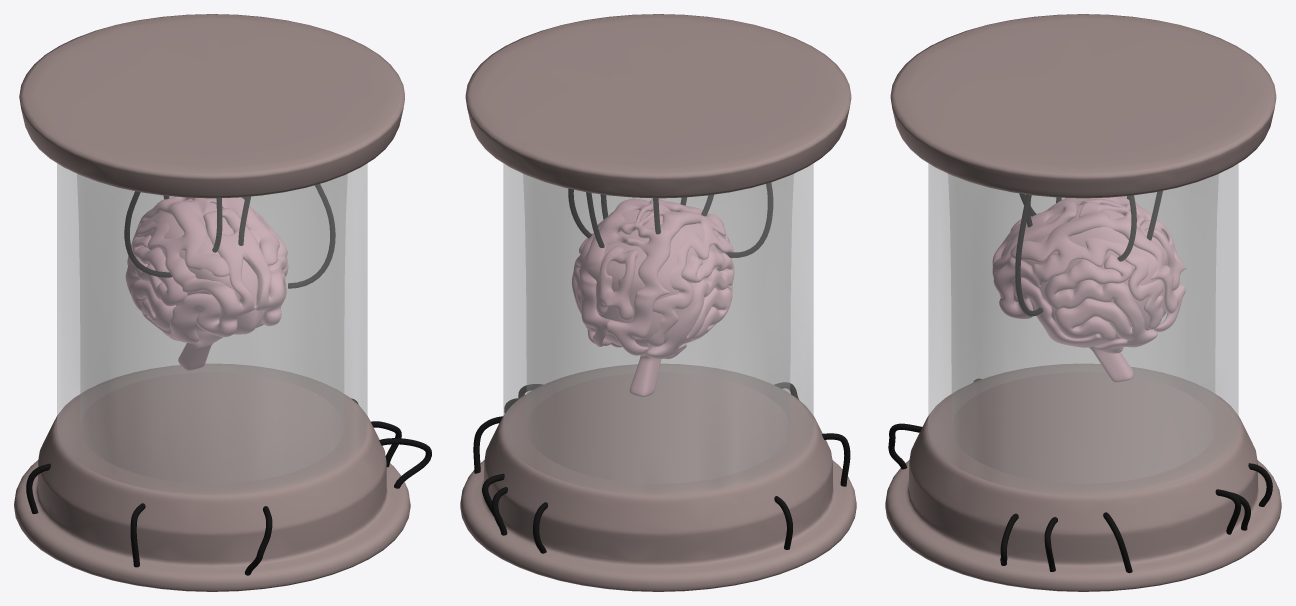
The model's file is modelo-ia.glb.
3 views of the same model, side by side, from view 1: azimuth 30°, elevation 25°; view 2: azimuth 150°, elevation 25°; view 3: azimuth 270°, elevation 25° (orthographic).
Parts seen in each view (by area): view 1: Circle_Material.003_0, Cylinder_Material.001_0, cerveau_Material_0, BezierCurve_Material.002_0; view 2: Circle_Material.003_0, Cylinder_Material.001_0, cerveau_Material_0, BezierCurve_Material.002_0; view 3: Circle_Material.003_0, Cylinder_Material.001_0, cerveau_Material_0, BezierCurve_Material.002_0.
Boxes of the visible parts, x1,y1,x2,y2 form: Circle_Material.003_0: (14,14,410,591); Cylinder_Material.001_0: (57,163,367,494); cerveau_Material_0: (125,196,288,370); BezierCurve_Material.002_0: (26,184,431,575); Circle_Material.003_0: (460,14,856,591); Cylinder_Material.001_0: (503,163,813,494); cerveau_Material_0: (572,198,734,396); BezierCurve_Material.002_0: (473,182,850,553); Circle_Material.003_0: (885,14,1281,591); Cylinder_Material.001_0: (928,163,1238,494); cerveau_Material_0: (992,196,1186,382); BezierCurve_Material.002_0: (888,191,1272,573).
Size of the model in its own units: 10.27 by 11.71 by 10.05.
